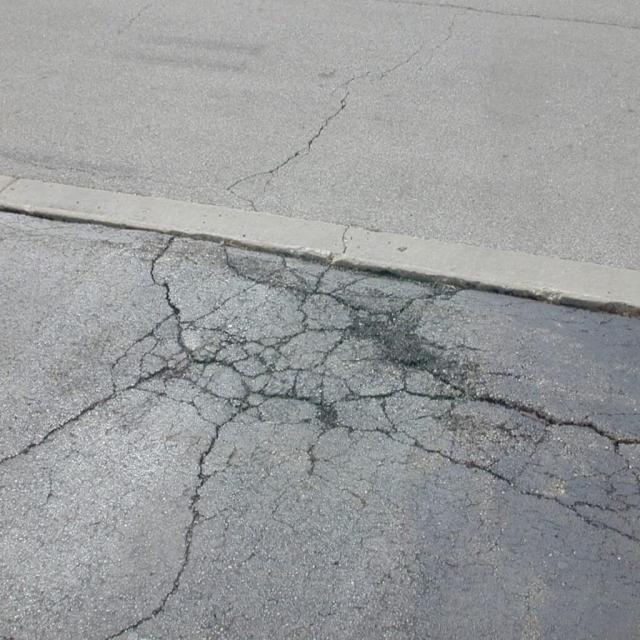Drain Hole: (203, 275, 544, 467)
